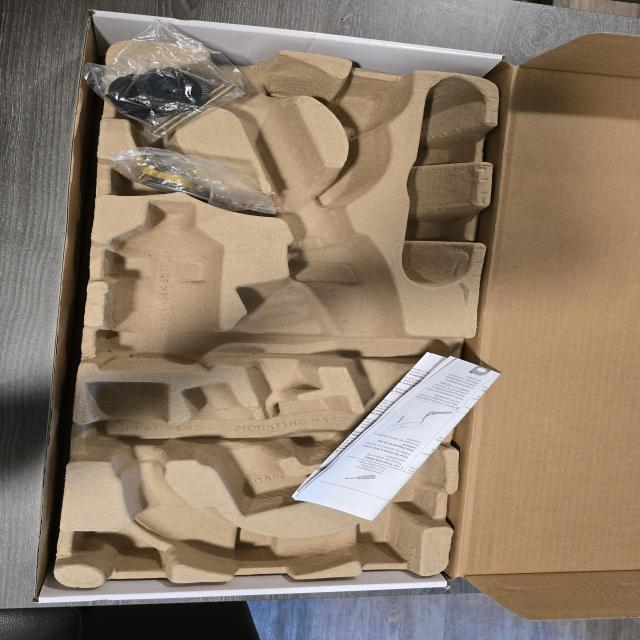1m: (88, 55, 445, 572)
2m: (184, 383, 380, 513)
3m: (99, 199, 220, 372)
4m: (404, 77, 480, 286)
5m: (334, 84, 399, 131)
6: (102, 146, 278, 213)
7: (81, 15, 260, 140)
8: (289, 350, 501, 522)
